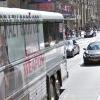Bus: (4, 3, 73, 100)
